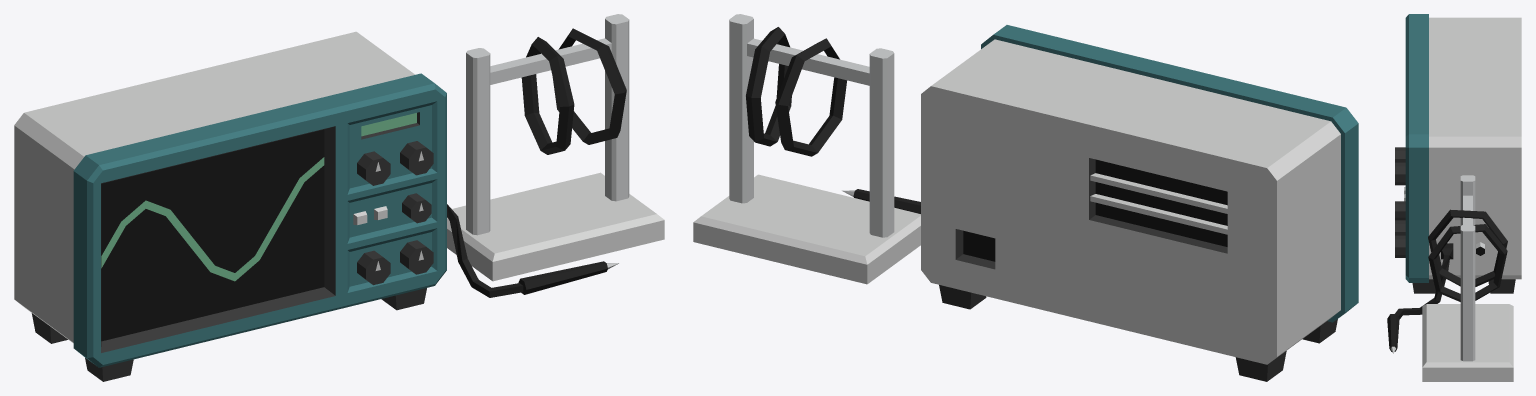
File: oscilloscope-bench-station-495b09.glb
3 views of the same model, side by side, from view 1: azimuth 30°, elevation 25°; view 2: azimuth 150°, elevation 25°; view 3: azimuth 270°, elevation 25° (orthographic). The views are drawn at different scales.
Visible parts, largest first — view 1: oscilloscope-bench-station, probe-2, probe-1, probe-3, knob-timebase; view 2: oscilloscope-bench-station, probe-2, probe-3, probe-1; view 3: oscilloscope-bench-station, probe-3, probe-2, probe-1, knob-timebase.
Part boxes in pixels (x1,y1,x2,y2): oscilloscope-bench-station: [14, 14, 664, 381]; probe-2: [521, 37, 574, 154]; probe-1: [447, 204, 619, 297]; probe-3: [552, 28, 626, 144]; knob-timebase: [357, 151, 390, 185]; oscilloscope-bench-station: [693, 14, 1358, 381]; probe-2: [775, 38, 846, 156]; probe-3: [746, 27, 791, 146]; probe-1: [842, 189, 920, 213]; oscilloscope-bench-station: [1395, 14, 1521, 381]; probe-3: [1428, 224, 1507, 301]; probe-2: [1428, 209, 1507, 286]; probe-1: [1387, 243, 1453, 353]; knob-timebase: [1395, 147, 1405, 162].
Bounding box in the file's own units: 0.6 × 0.216 × 0.1625.
